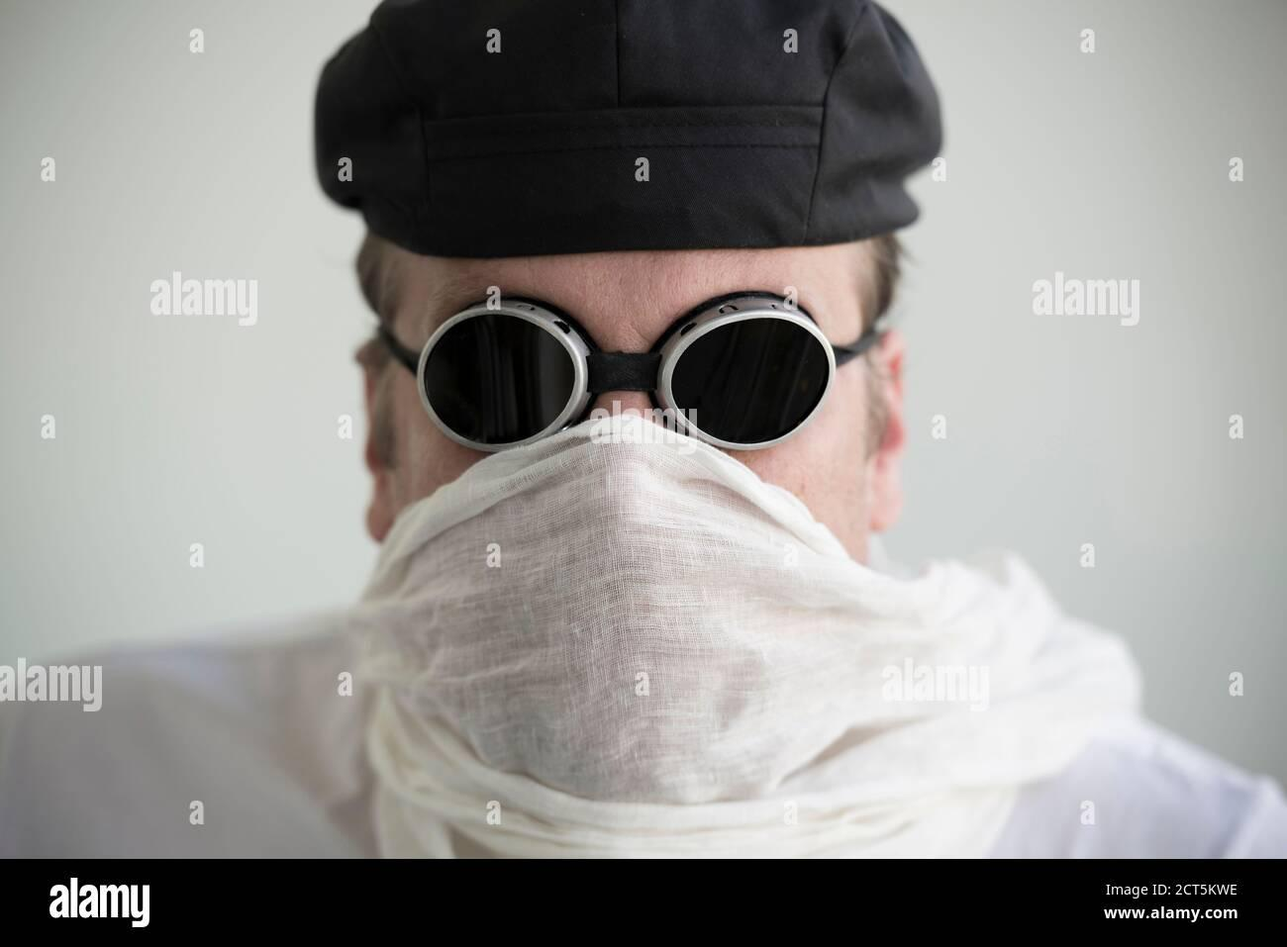cap: (290, 0, 1005, 267)
scarf-kerchief: (349, 414, 879, 869)
sunglasses: (399, 285, 849, 473)
